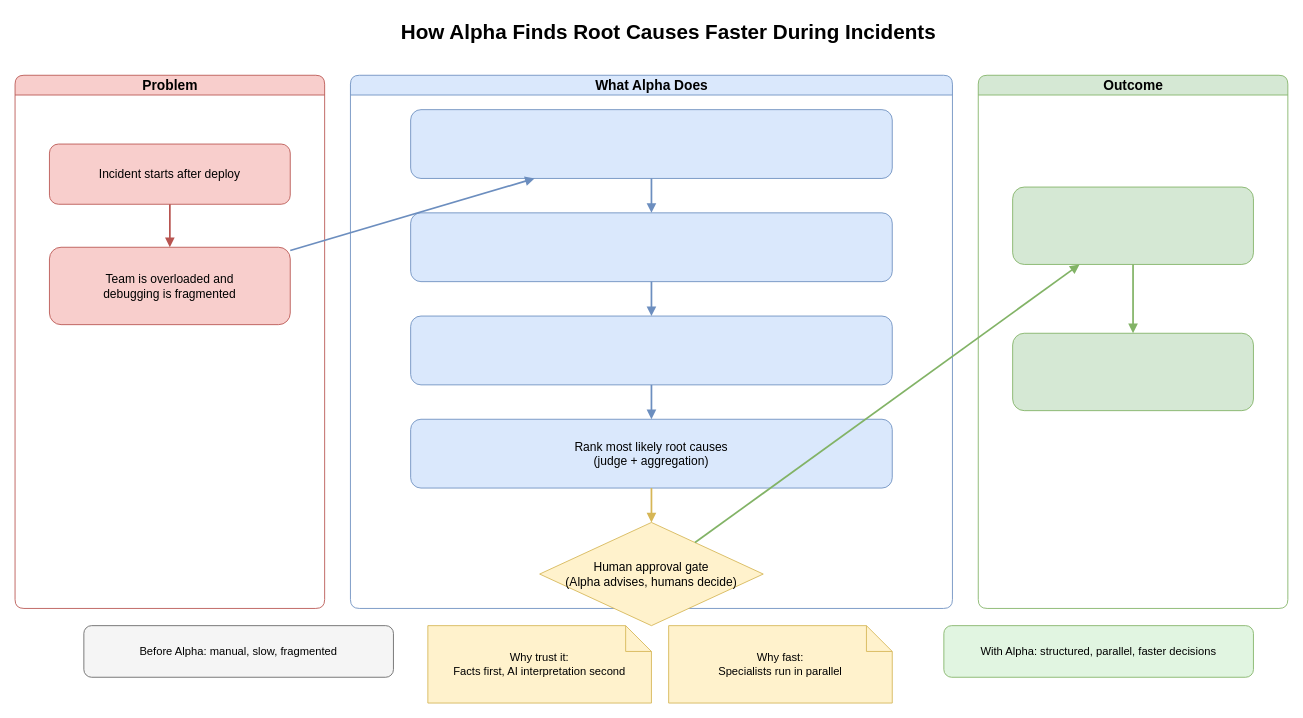
Some shapes in this 1303 by 718 pixel diagram are drawn without their labels. Here are the shapes that lost their labels. From the top down, the centre of each, then its label:
At point 651,143: "Alpha ingests incident context (logs + metrics + commits + config)".
At point 1132,225: "Top likely causes with confidence".
At point 651,247: "Extract verified signals (deterministic facts first)".
At point 651,350: "Run parallel AI investigators (logs, metrics, commits, config)".
At point 1132,371: "Faster recovery, less chaos, lower MTTR".
